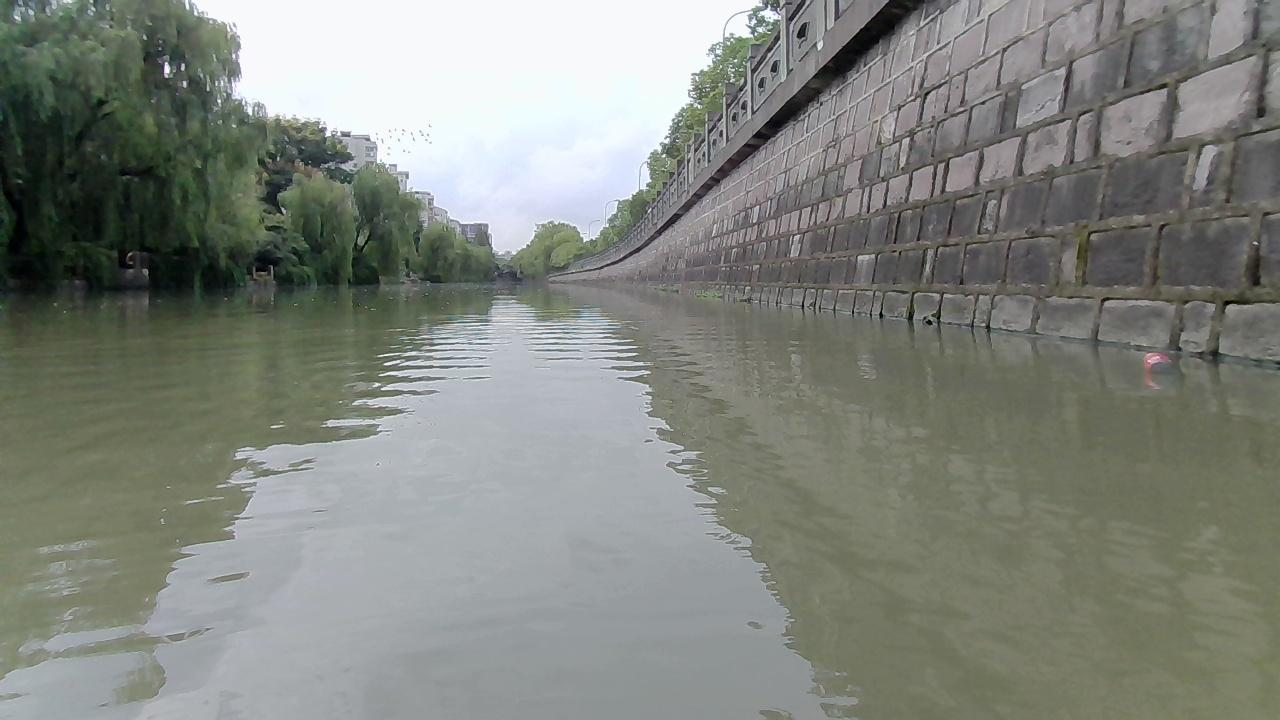bottle: (1140, 351, 1172, 374)
